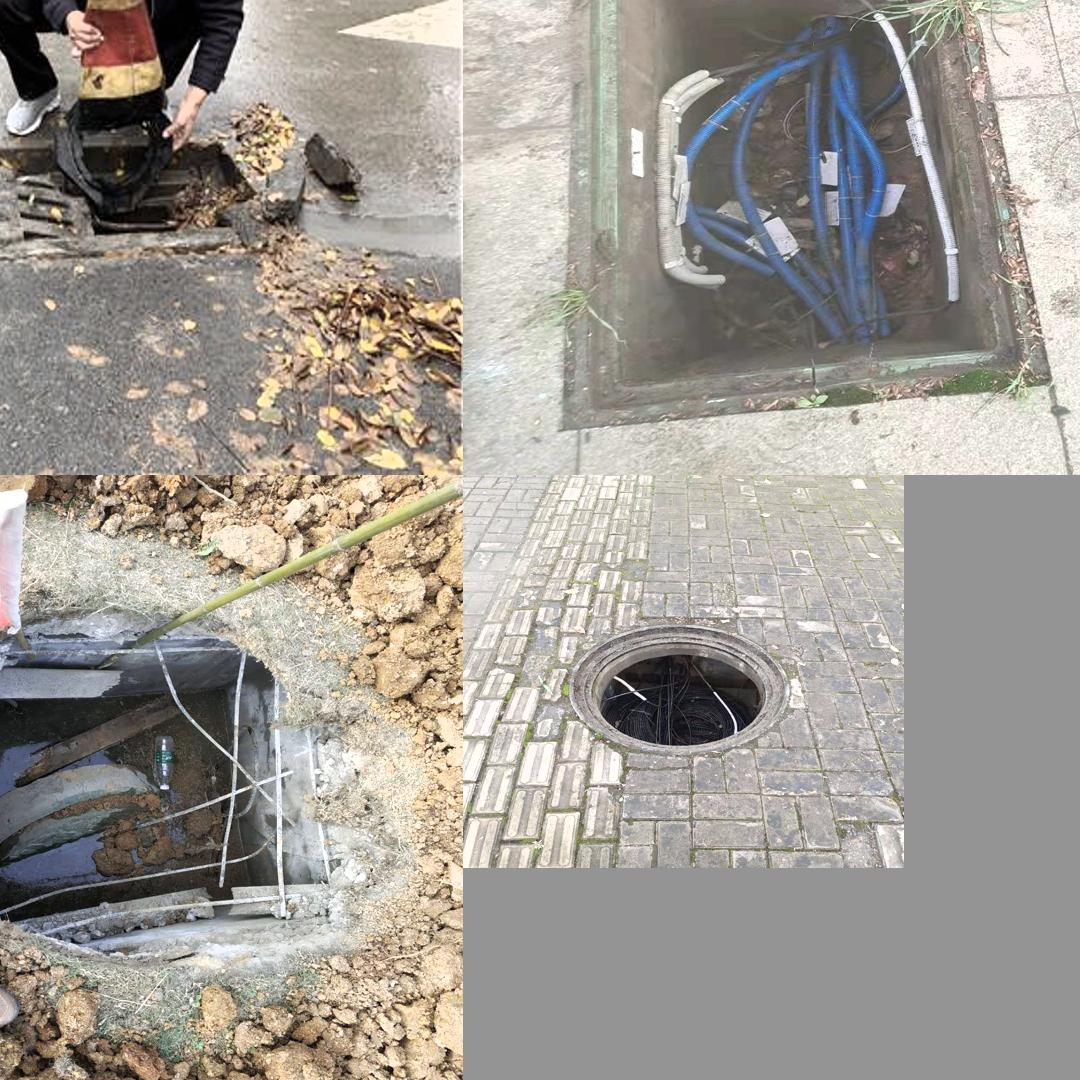lose: (556, 0, 1038, 403), (0, 599, 421, 965), (0, 95, 314, 309), (570, 625, 790, 757)
